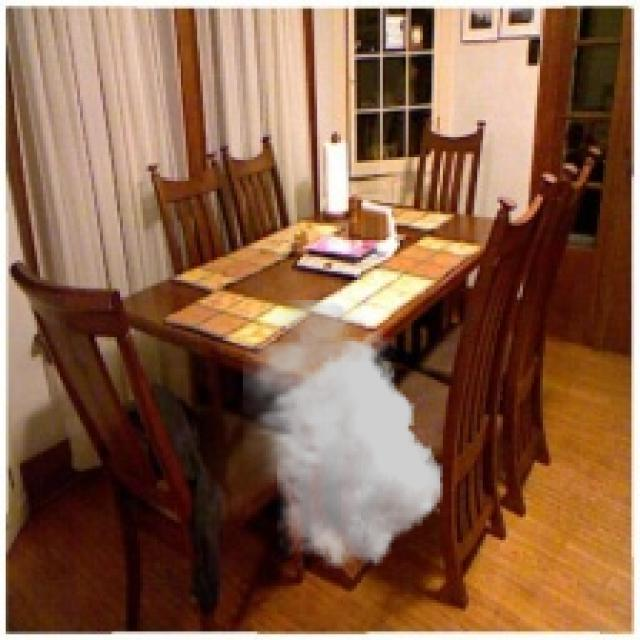Smoke: (243, 300, 443, 569)
